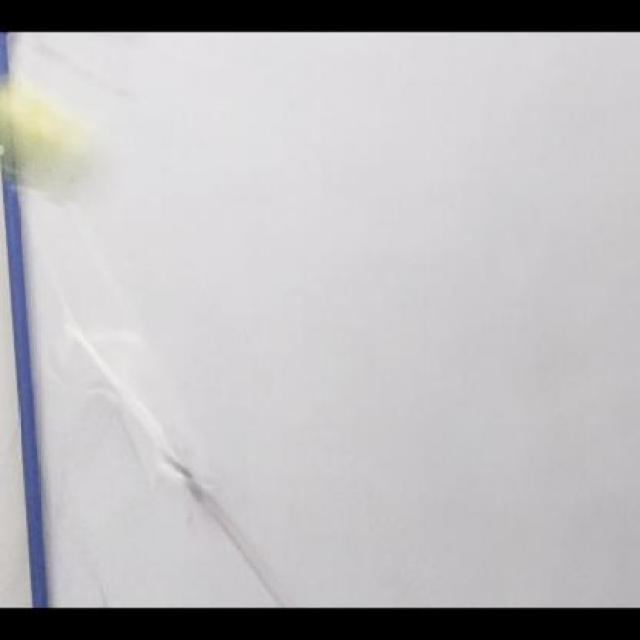baseball: (25, 73, 77, 209)
